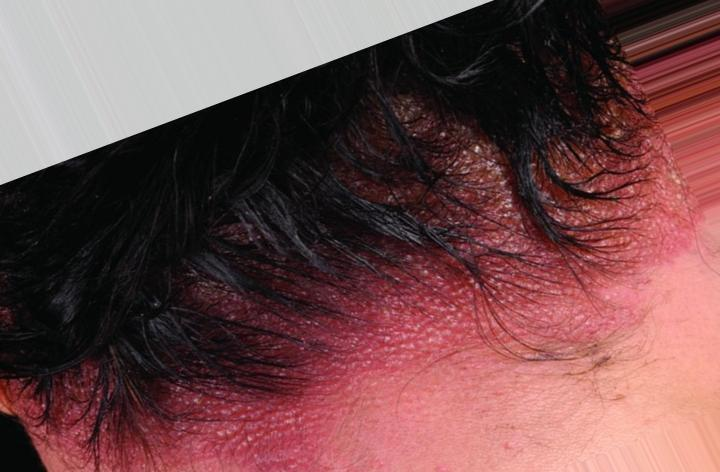Contact Dermatitis: (85, 176, 669, 352)
